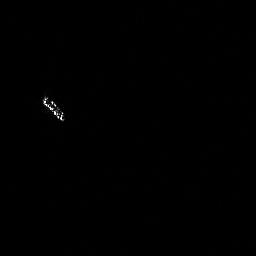ship: (39, 93, 68, 124)
